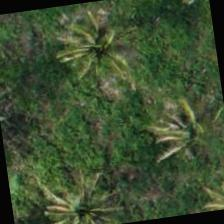Kelapa_Sawit: (46, 0, 149, 97), (138, 79, 223, 182), (27, 164, 126, 223), (185, 162, 223, 214)
